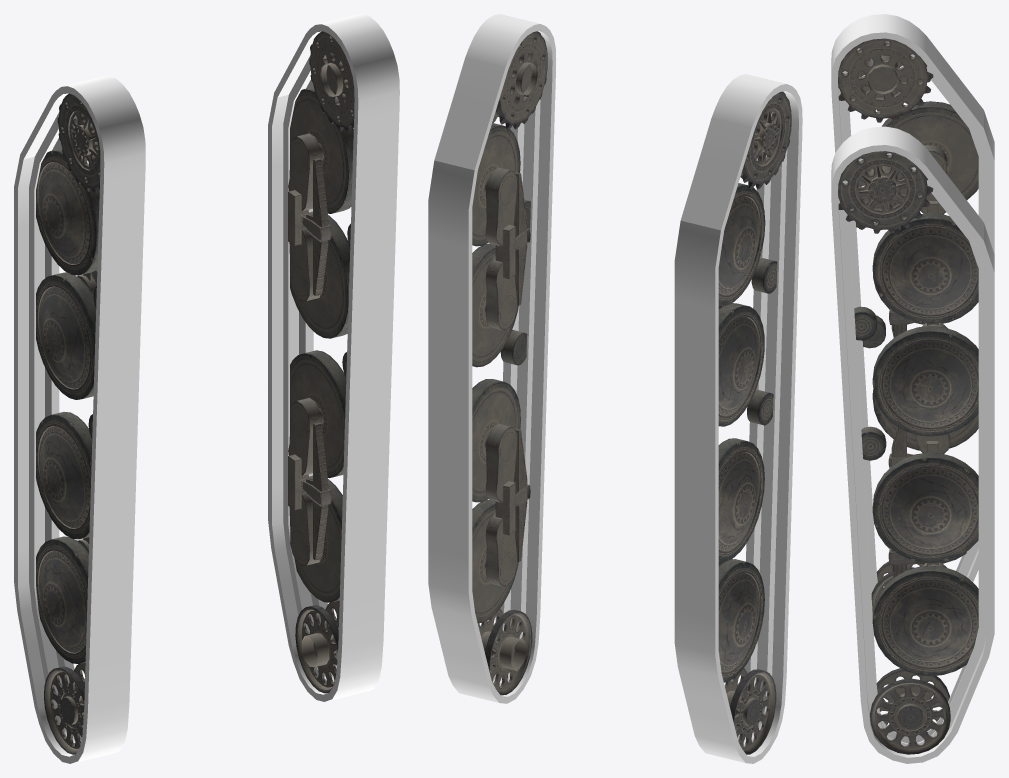
The model's file is Chassis.glb.
3 views of the same model, side by side, from view 1: azimuth 30°, elevation 25°; view 2: azimuth 150°, elevation 25°; view 3: azimuth 270°, elevation 25° (orthographic). The views are drawn at different scales.
Parts seen in each view (by area): view 1: set_0_group_0, set_1_group_0, set_3_group_0, set_2_group_0; view 2: set_0_group_0, set_1_group_0, set_3_group_0, set_2_group_0; view 3: set_3_group_0, set_1_group_0, set_2_group_0, set_0_group_0.
Part boxes in pixels (left/top/right/bottom): set_0_group_0: left=14, top=76, right=145, bottom=763; set_1_group_0: left=268, top=14, right=399, bottom=701; set_3_group_0: left=288, top=31, right=354, bottom=693; set_2_group_0: left=36, top=93, right=100, bottom=754; set_0_group_0: left=674, top=74, right=802, bottom=763; set_1_group_0: left=428, top=14, right=556, bottom=703; set_3_group_0: left=472, top=31, right=547, bottom=695; set_2_group_0: left=718, top=91, right=791, bottom=754; set_3_group_0: left=838, top=151, right=978, bottom=754; set_1_group_0: left=831, top=126, right=994, bottom=763; set_2_group_0: left=838, top=38, right=978, bottom=616; set_0_group_0: left=831, top=14, right=994, bottom=633.
Size of the model in its own units: 2.07 by 4.56 by 1.09.
Materials: 4 (2 with a texture image).
